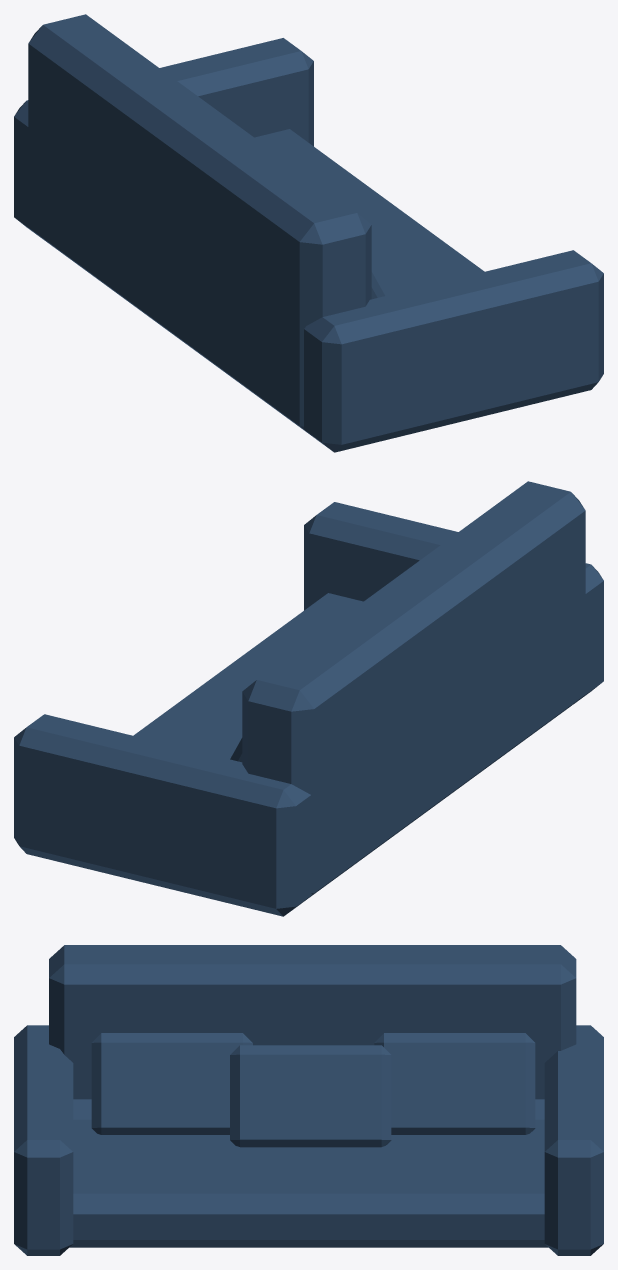
Rendered from sofa6.fbx.
3 views of the same model, one above another, from view 1: azimuth 30°, elevation 25°; view 2: azimuth 150°, elevation 25°; view 3: azimuth 270°, elevation 25° (orthographic). The views are drawn at different scales.
Parts seen in each view (by area): view 1: Cube.035, Cube.036, Cube.037; view 2: Cube.035, Cube.037, Cube.036; view 3: Cube.035, Cube.039, Cube.038, Cube.040, Cube.036, Cube.037.
Part boxes in pixels (box(x1,y1,x2,y2)): Cube.035: box(28, 14, 484, 437); Cube.036: box(304, 250, 603, 452); Cube.037: box(14, 38, 313, 237); Cube.035: box(133, 481, 585, 901); Cube.037: box(14, 714, 312, 916); Cube.036: box(304, 502, 603, 703); Cube.035: box(49, 945, 576, 1247); Cube.039: box(230, 1045, 391, 1147); Cube.038: box(374, 1033, 535, 1134); Cube.040: box(91, 1033, 252, 1134); Cube.036: box(14, 1025, 73, 1255); Cube.037: box(544, 1025, 603, 1255).
Size of the model in its own units: 1012 by 731 by 1991.
